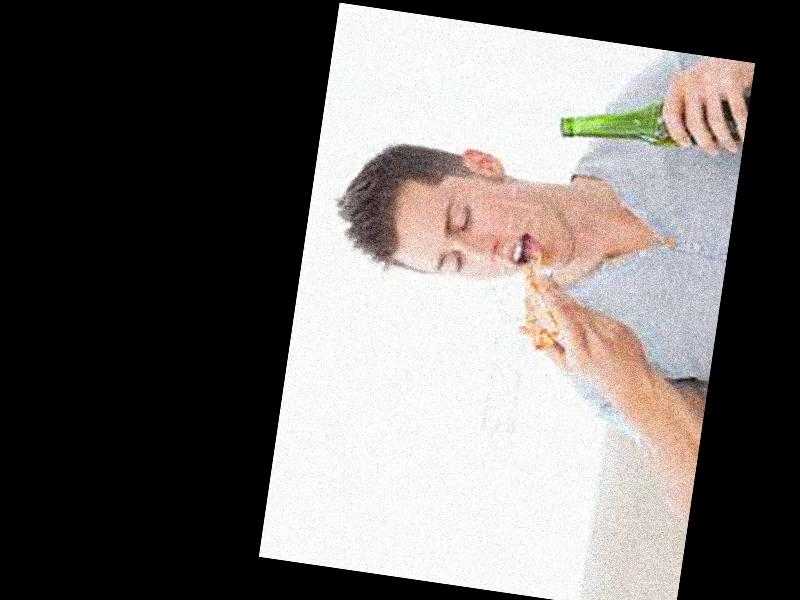Beer: (559, 68, 750, 163)
